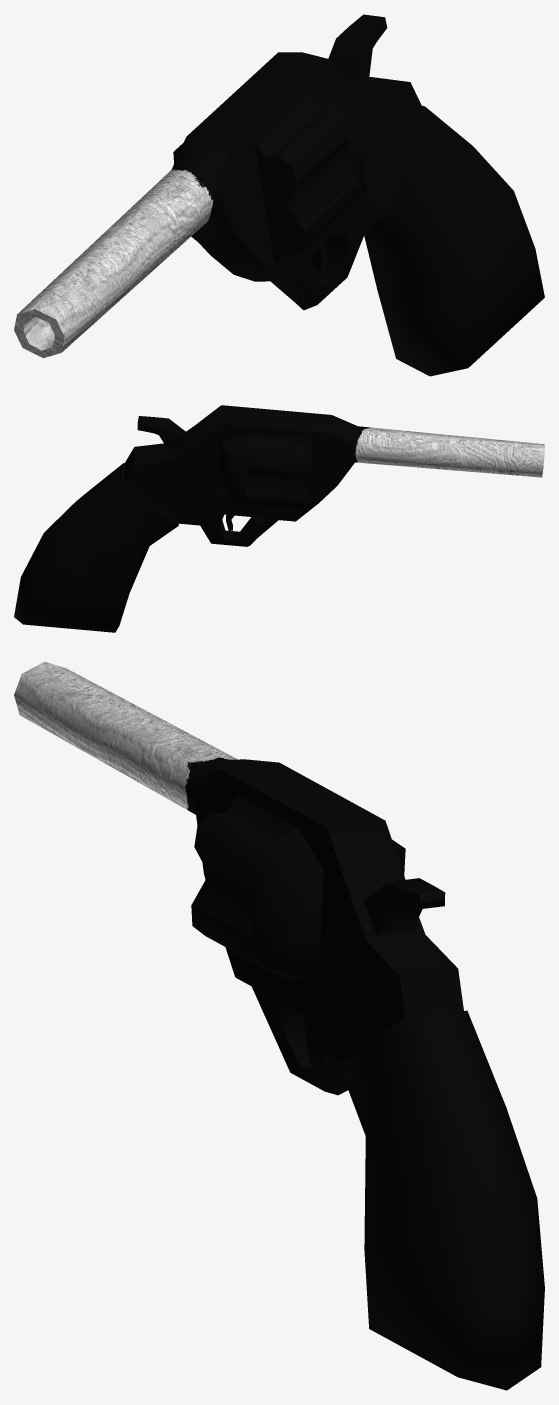
The model's file is revolver.glb.
3 views of the same model, one above another, from view 1: azimuth 30°, elevation 25°; view 2: azimuth 150°, elevation 25°; view 3: azimuth 270°, elevation 25° (orthographic). The views are drawn at different scales.
Parts seen in each view (by area): view 1: node_id56, node_id58; view 2: node_id56, node_id58; view 3: node_id56, node_id58.
Boxes of the visible parts, bbox=[...] form: node_id56: bbox=[14, 14, 422, 358]; node_id58: bbox=[364, 105, 544, 376]; node_id56: bbox=[124, 405, 544, 546]; node_id58: bbox=[14, 463, 178, 632]; node_id56: bbox=[14, 661, 463, 1095]; node_id58: bbox=[339, 1010, 544, 1390].
Size of the model in its own units: 0.487 by 0.2502 by 0.2799.
Materials: 2 (2 with a texture image).
